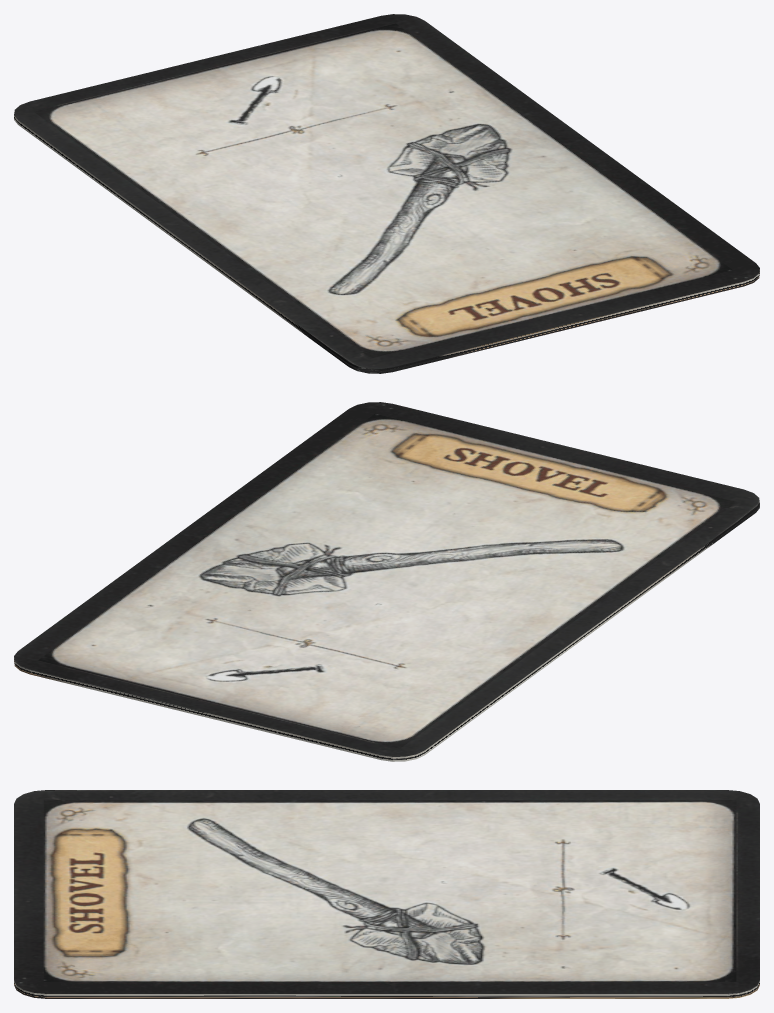
The model's file is SmallCard.fbx.
3 views of the same model, one above another, from view 1: azimuth 30°, elevation 25°; view 2: azimuth 150°, elevation 25°; view 3: azimuth 270°, elevation 25° (orthographic). The views are drawn at different scales.
Visible parts, largest first — view 1: SmallCard; view 2: SmallCard; view 3: SmallCard.
Boxes of the visible parts, left/top/right/bottom form: SmallCard: left=14, top=14, right=759, bottom=373; SmallCard: left=14, top=402, right=759, bottom=761; SmallCard: left=14, top=790, right=759, bottom=998.
Bounding box in the file's own units: 44 × 68 × 0.5.
